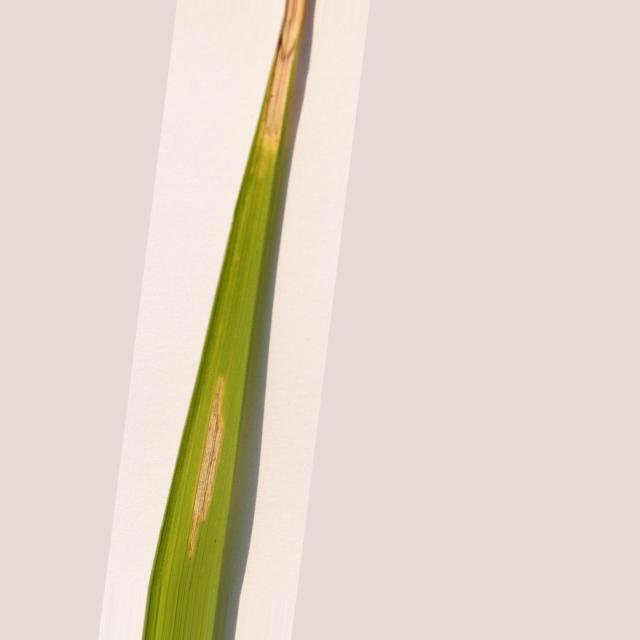Bacterial_Leaf_Blight: (189, 376, 224, 558), (274, 0, 306, 100)
